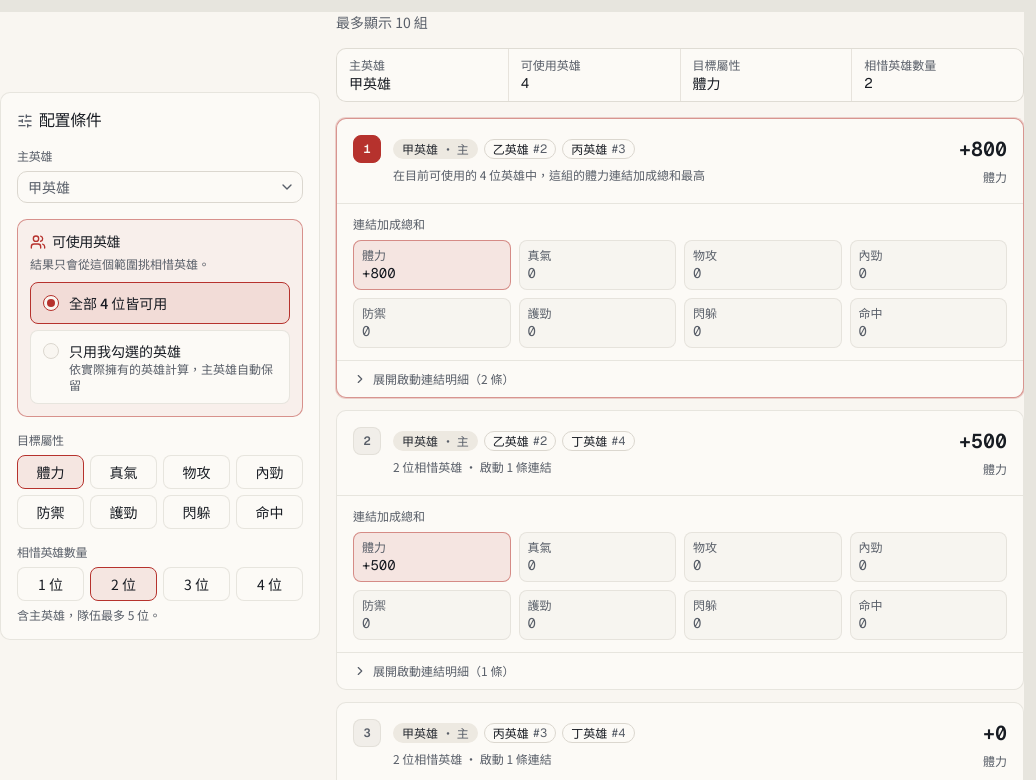
Test: HeroTeamBuilder › 切換目標屬性會改變排序依據
The width and height of the screenshot is (1036, 780).
Click the radio button labelled "物攻": (196, 472) [163,455,230,489]
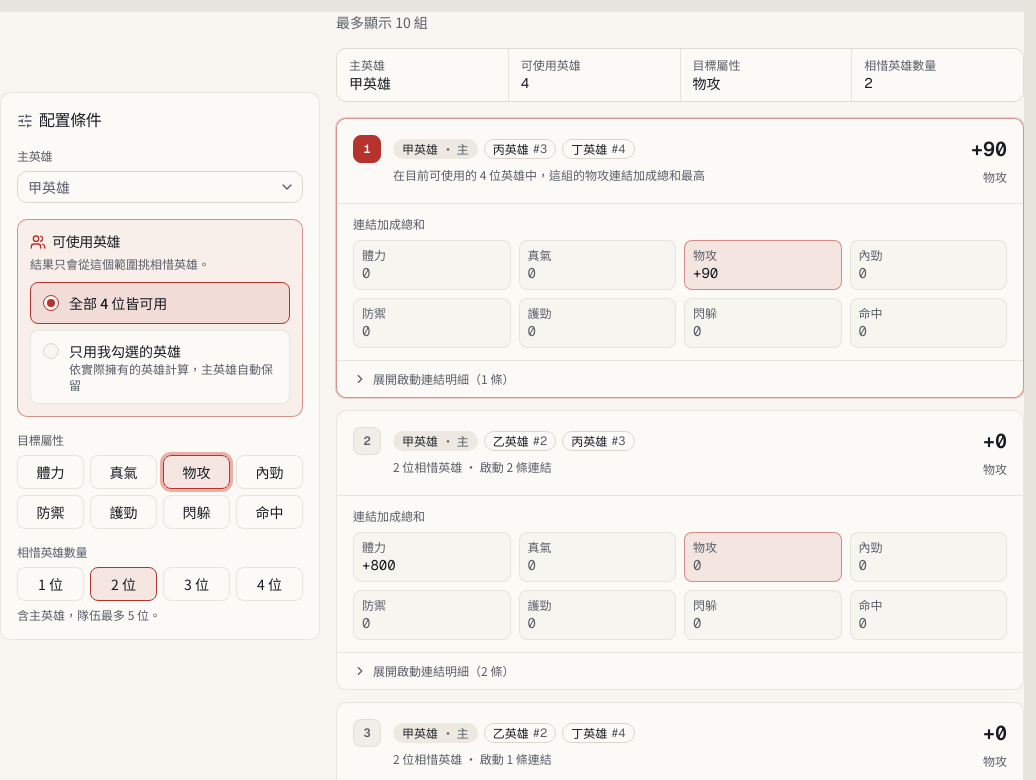
Expected: the 1st text "+90" is shown, [971,135,1007,163]
